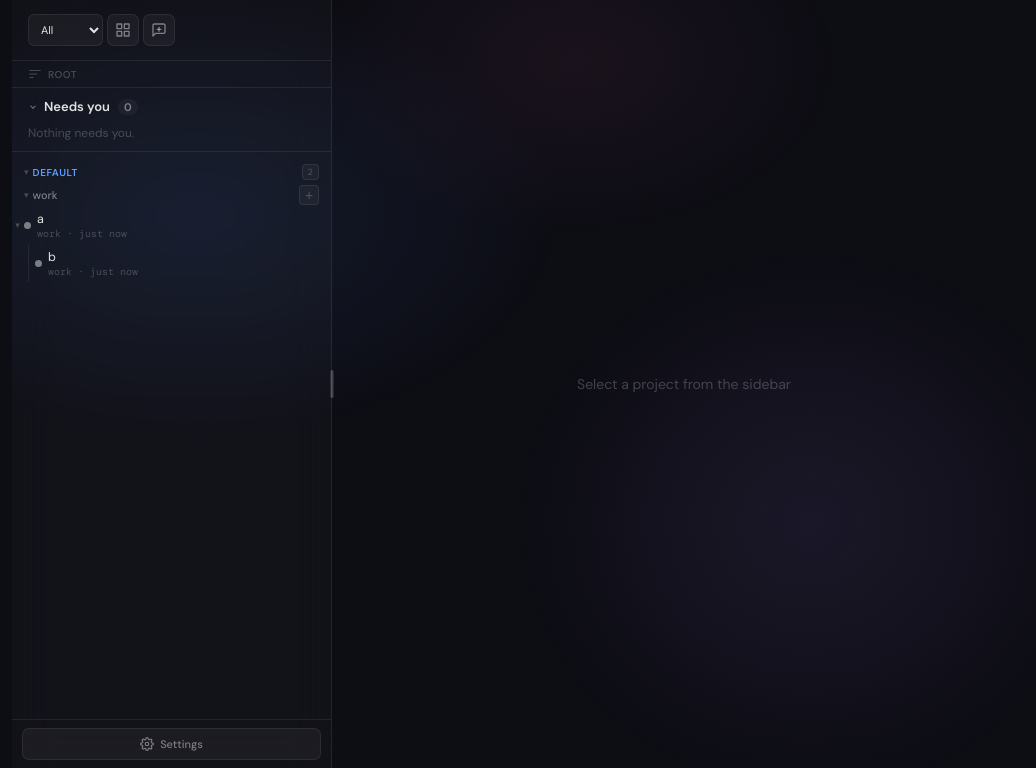
Test case: on a phone: false › folds a root's header to a count of every session under it, its + left as it is
The image size is (1036, 768).
What coordinates should you click on to do the following:
click the button with class "group-fold-toggle" showing "▾ work"
I would click on:
 (41, 195)
Its box is [24,188,58,202].
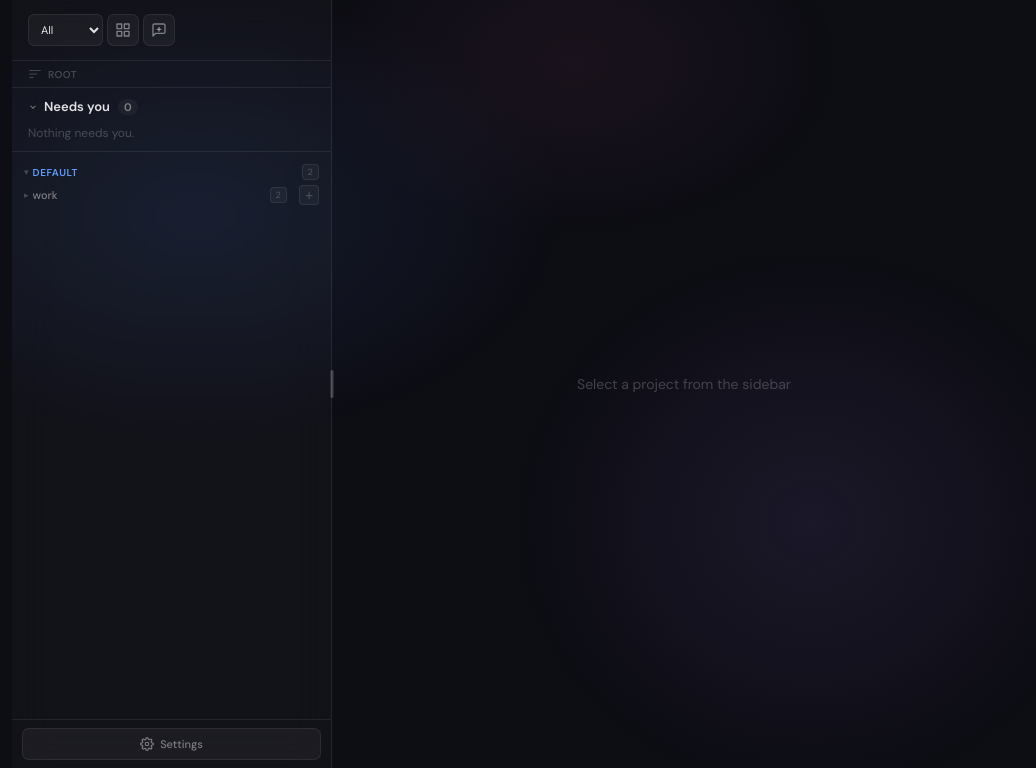
expect the button with class "root-action-btn" is shown: met, box [299,185,319,205]
expect the 2nd text "2" is shown: met, box [270,187,287,203]
